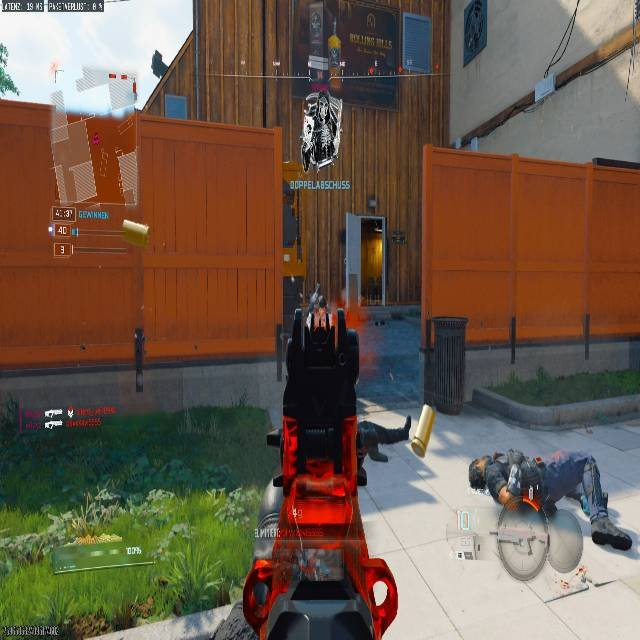head: (494, 508, 567, 579), (467, 456, 491, 491)
